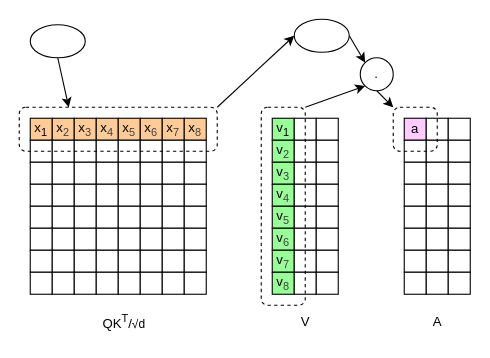
The diagram is 490 pixels wide and 358 high, and some of its shapes have lost their labels. Here are the shapes that lost their labels. From the top down, the centre of each, then its label:
At (x=57, y=41): "scale".
At (x=321, y=35): "softmax".
